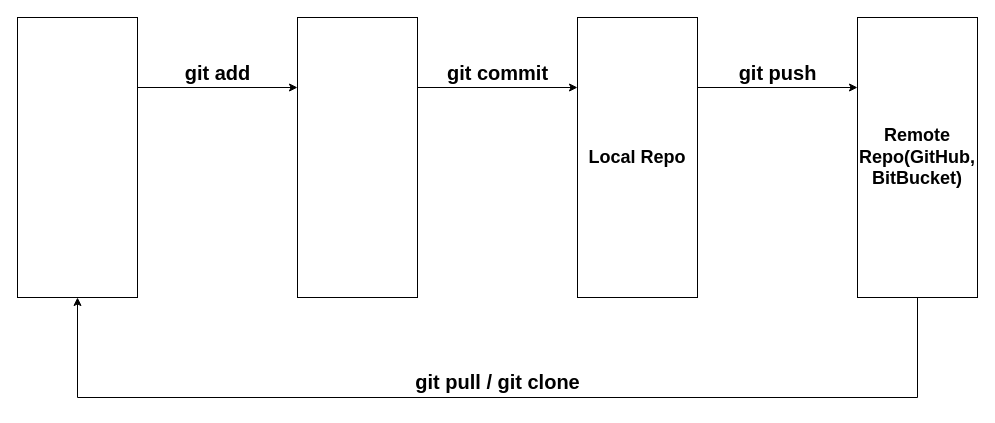
Image size: 995x423. Some labels were removed from this diagram. Each missing label, with the centre of its shape:
"IDE(VS Code)" belongs at point (77, 157).
"Staging Area" belongs at point (357, 157).
